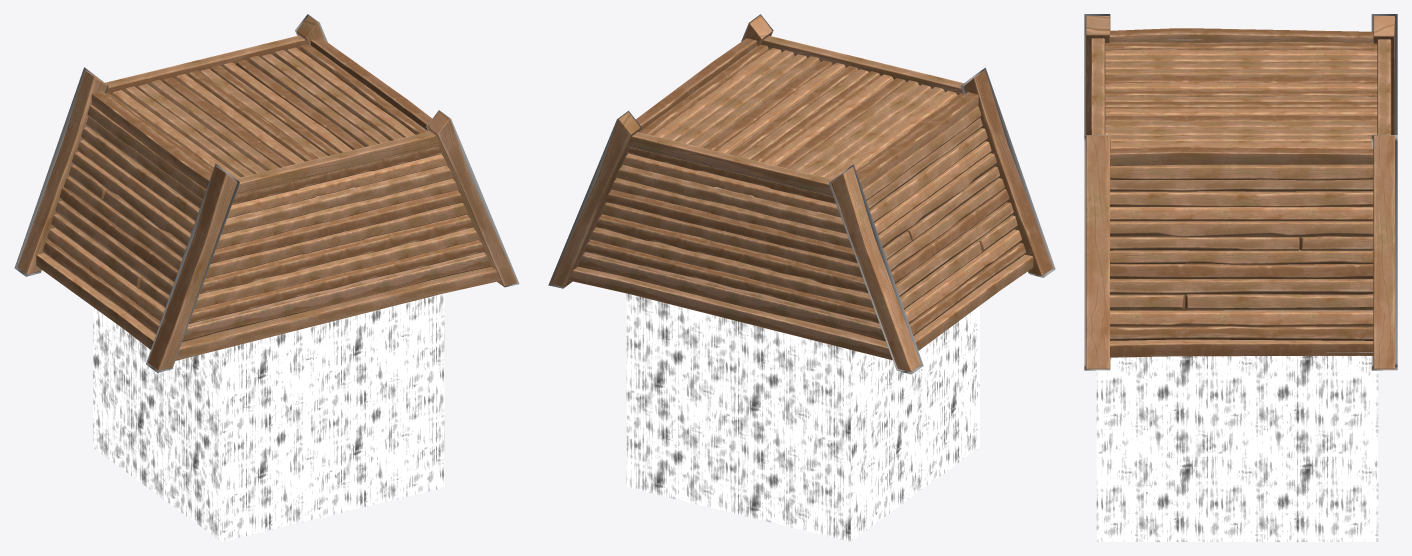
The model's file is SM_BuildingBase_06.gltf.
3 renders of one model, left to right at view 1: azimuth 30°, elevation 25°; view 2: azimuth 150°, elevation 25°; view 3: azimuth 270°, elevation 25°, orthographic. The views are drawn at different scales.
Visible parts, largest first — view 1: SM_BuildingBase_06_LOD0, SM_BuildingBase_06_ConvexHulls; view 2: SM_BuildingBase_06_LOD0, SM_BuildingBase_06_ConvexHulls; view 3: SM_BuildingBase_06_LOD0, SM_BuildingBase_06_ConvexHulls.
Boxes of the visible parts, box(x1,y1,x2,y2) form: SM_BuildingBase_06_LOD0: box(17, 15, 517, 541); SM_BuildingBase_06_ConvexHulls: box(14, 14, 519, 372); SM_BuildingBase_06_LOD0: box(551, 15, 1052, 541); SM_BuildingBase_06_ConvexHulls: box(548, 14, 1055, 374); SM_BuildingBase_06_LOD0: box(1085, 16, 1394, 541); SM_BuildingBase_06_ConvexHulls: box(1084, 14, 1397, 370).
Size of what is drawn, in the model's own units: 9.74 by 9.62 by 6.68.
4 materials, 3 textured.
